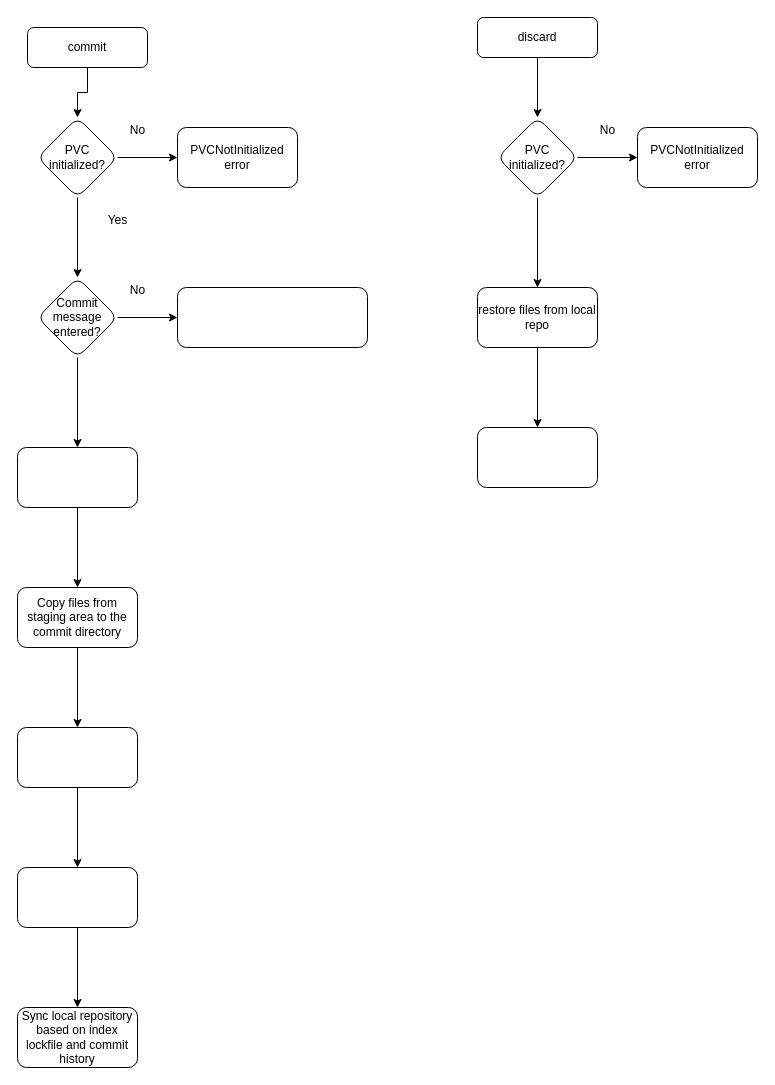
This 775x1085 diagram has some shape labels left out. The shapes that lost their labels are listed below. From the top down, each one's box as (x1, y1, x2, y2) in pixels, then its label:
(176, 286, 368, 348): CommiMessageUndefined error
(16, 446, 138, 508): create commit directory
(476, 426, 598, 488): delete files from status directory / status lockfile
(16, 726, 138, 788): Write commit metadata file
(16, 866, 138, 928): Truncate staging area
